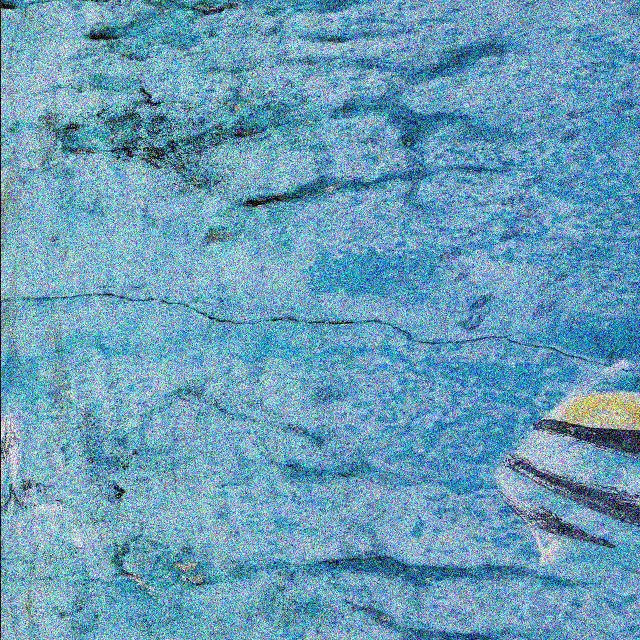SurfaceCrack: (1, 78, 483, 246)
